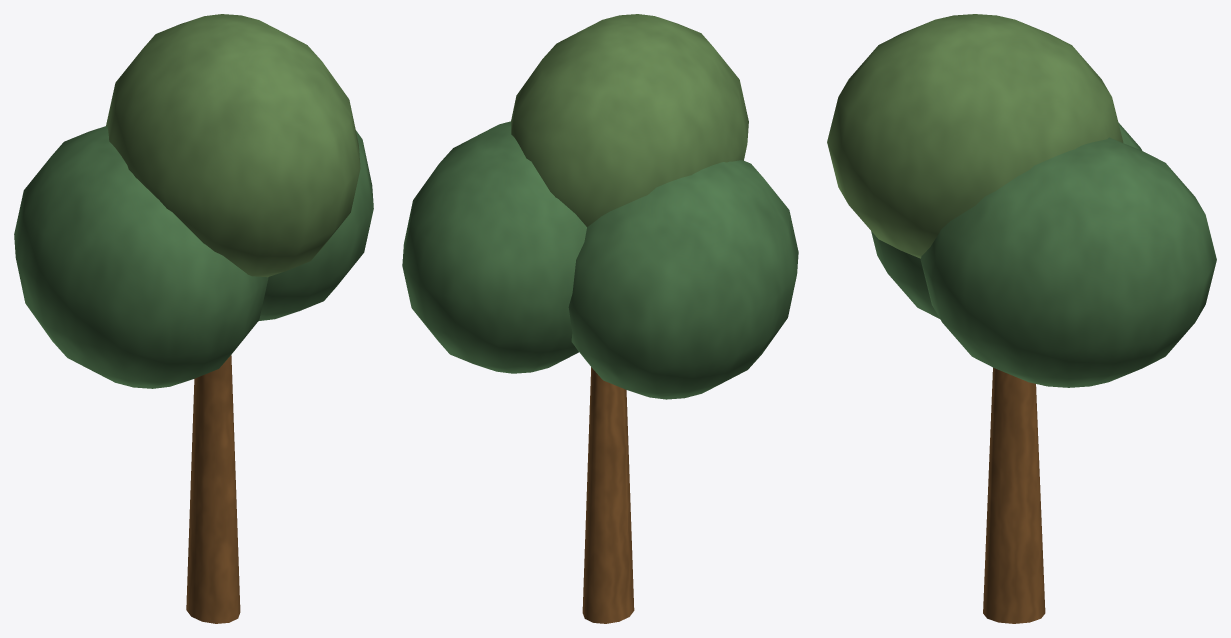
The model's file is Furn_Tree.fbx.
The picture shows the model from 3 angles, left to right: view 1: azimuth 30°, elevation 25°; view 2: azimuth 150°, elevation 25°; view 3: azimuth 270°, elevation 25°; orthographic projection. The views are drawn at different scales.
Visible parts, largest first — view 1: Furn_Tree_Mesh; view 2: Furn_Tree_Mesh; view 3: Furn_Tree_Mesh.
Part boxes in pixels (x1,y1,x2,y2): Furn_Tree_Mesh: [14, 14, 373, 623]; Furn_Tree_Mesh: [402, 14, 798, 623]; Furn_Tree_Mesh: [827, 14, 1216, 623].
Size of the model in its own units: 2.4 by 4 by 2.4.
3 materials, 3 textured.
